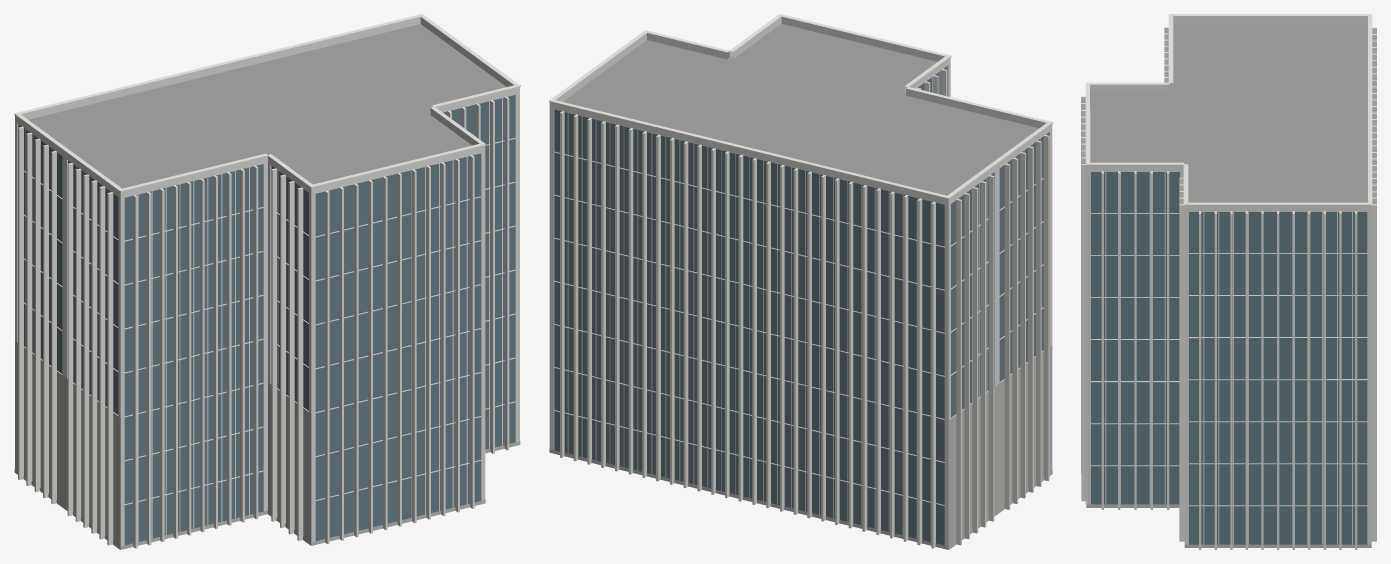
3 renders of one model, left to right at view 1: azimuth 30°, elevation 25°; view 2: azimuth 150°, elevation 25°; view 3: azimuth 270°, elevation 25°, orthographic. The views are drawn at different scales.
Visible parts, largest first — view 1: francisco__glass, francisco__trim, francisco__roof, francisco__wall, francisco__frame, francisco__base, francisco__parapet; view 2: francisco__glass, francisco__trim, francisco__roof, francisco__frame, francisco__wall, francisco__base, francisco__parapet; view 3: francisco__glass, francisco__roof, francisco__trim, francisco__frame, francisco__wall, francisco__parapet, francisco__base.
Part boxes in pixels (x1,y1,x2,y2): francisco__glass: (18,95,515,545); francisco__trim: (14,14,520,548); francisco__roof: (28,24,506,188); francisco__wall: (15,93,519,549); francisco__frame: (24,98,515,541); francisco__base: (14,341,520,549); francisco__parapet: (15,16,519,197); francisco__glass: (554,66,1048,545); francisco__trim: (549,14,1052,548); francisco__roof: (563,23,1038,195); francisco__frame: (554,71,1043,541); francisco__wall: (549,63,1052,549); francisco__base: (549,345,1052,549); francisco__parapet: (549,16,1052,204); francisco__glass: (1091,172,1367,544); francisco__roof: (1090,23,1367,202); francisco__trim: (1081,14,1376,549); francisco__frame: (1091,172,1367,544); francisco__wall: (1086,171,1371,544); francisco__parapet: (1086,16,1371,211); francisco__base: (1085,501,1371,547).
Bounding box in the file's own units: 35.69 × 29.4 × 22.95.
